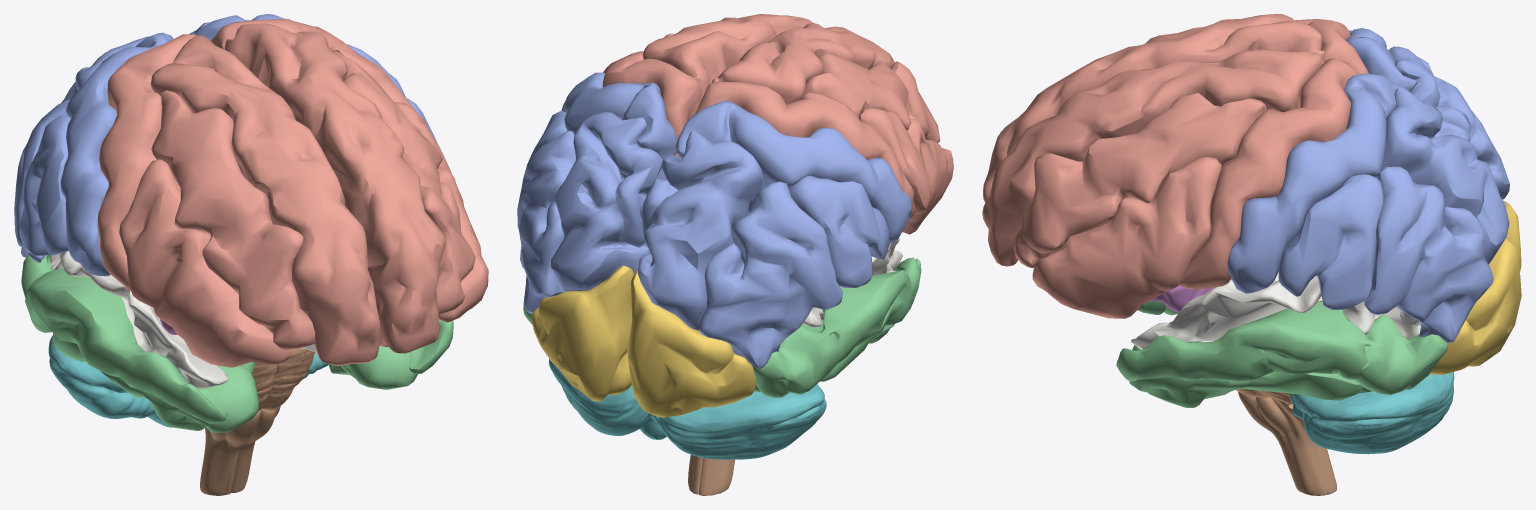
The picture shows the model from 3 angles, left to right: view 1: azimuth 30°, elevation 25°; view 2: azimuth 150°, elevation 25°; view 3: azimuth 270°, elevation 25°; orthographic projection. The views are drawn at different scales.
Visible parts, largest first — view 1: frontalLobe, temporalLobe, parietalLobe, whiteMatter, cerebellum, medullaOblongata, pons; view 2: parietalLobe, frontalLobe, occipitalLobe, cerebellum, temporalLobe, medullaOblongata, whiteMatter; view 3: frontalLobe, parietalLobe, temporalLobe, cerebellum, whiteMatter, occipitalLobe, medullaOblongata, insula.
Part boxes in pixels (x1=…): frontalLobe: x1=97, y1=19, x2=488, y2=367; temporalLobe: x1=21, y1=254, x2=453, y2=432; parietalLobe: x1=14, y1=14, x2=440, y2=276; whiteMatter: x1=50, y1=251, x2=316, y2=388; cerebellum: x1=48, y1=335, x2=328, y2=427; medullaOblongata: x1=200, y1=406, x2=280, y2=495; pons: x1=251, y1=348, x2=314, y2=411; parietalLobe: x1=517, y1=72, x2=912, y2=368; frontalLobe: x1=602, y1=14, x2=953, y2=234; occipitalLobe: x1=531, y1=265, x2=755, y2=417; cerebellum: x1=548, y1=359, x2=826, y2=459; temporalLobe: x1=523, y1=257, x2=921, y2=397; medullaOblongata: x1=688, y1=455, x2=734, y2=495; whiteMatter: x1=803, y1=238, x2=902, y2=327; frontalLobe: x1=982, y1=14, x2=1368, y2=318; parietalLobe: x1=1227, y1=28, x2=1509, y2=342; temporalLobe: x1=1116, y1=301, x2=1448, y2=407; cerebellum: x1=1289, y1=372, x2=1454, y2=454; whiteMatter: x1=1131, y1=272, x2=1420, y2=349; occipitalLobe: x1=1430, y1=201, x2=1521, y2=374; medullaOblongata: x1=1238, y1=392, x2=1336, y2=495; insula: x1=1150, y1=278, x2=1231, y2=312.
Size of the model in its own units: 0.1388 by 0.166 by 0.18.
